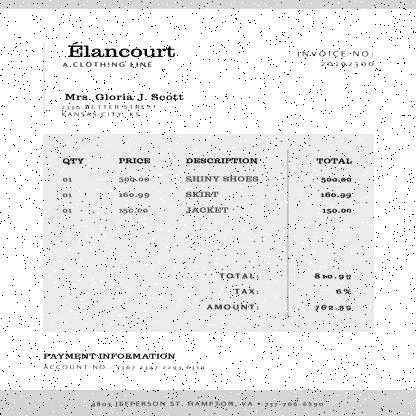Paragraph: (202, 268, 358, 314), (57, 88, 186, 121), (58, 39, 178, 70), (40, 350, 208, 372), (88, 398, 326, 409), (294, 46, 376, 70)
Table: (52, 150, 360, 222)
